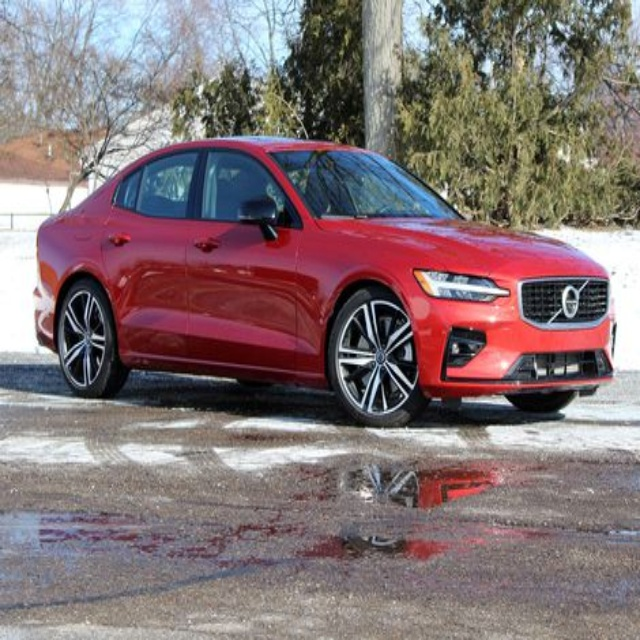Car: (34, 138, 615, 432)
